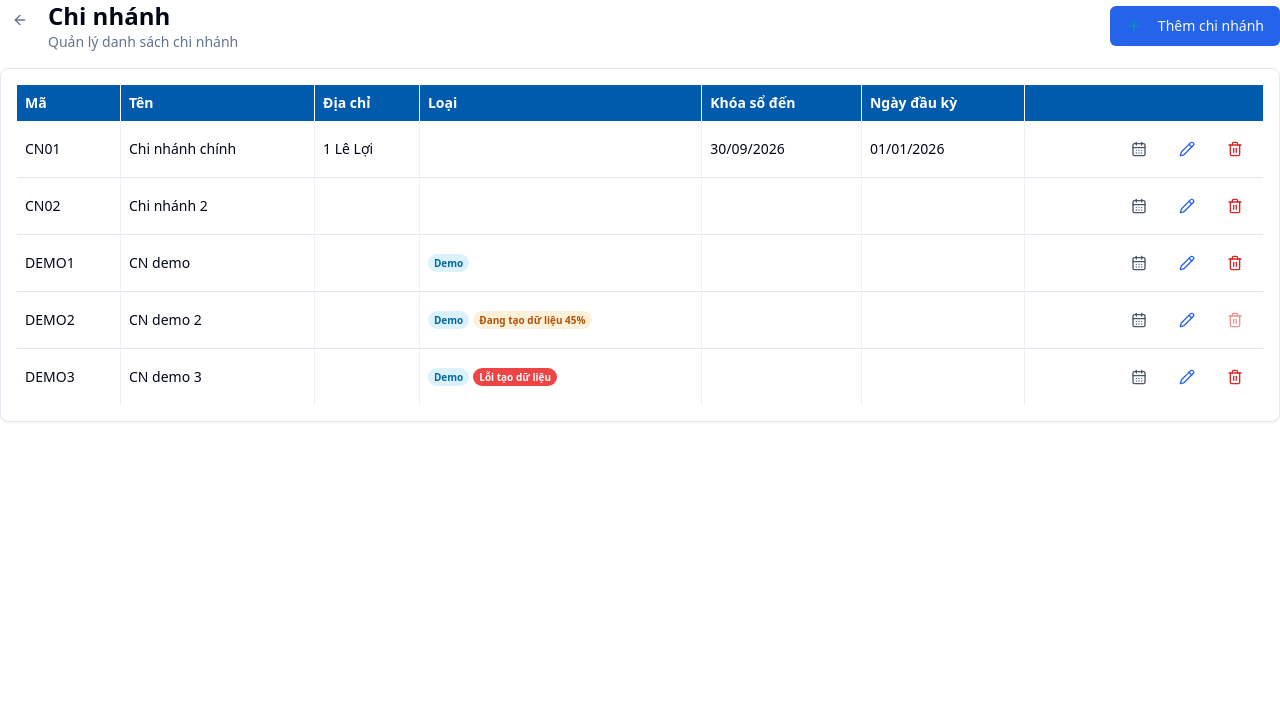
BranchesPage › demo rows use the demo delete action
Expected: the button "Xóa chi nhánh" is not shown
Click the button named "Xóa chi nhánh demo" in the row of "DEMO1" at (1235, 263), box [1215,243,1255,283]
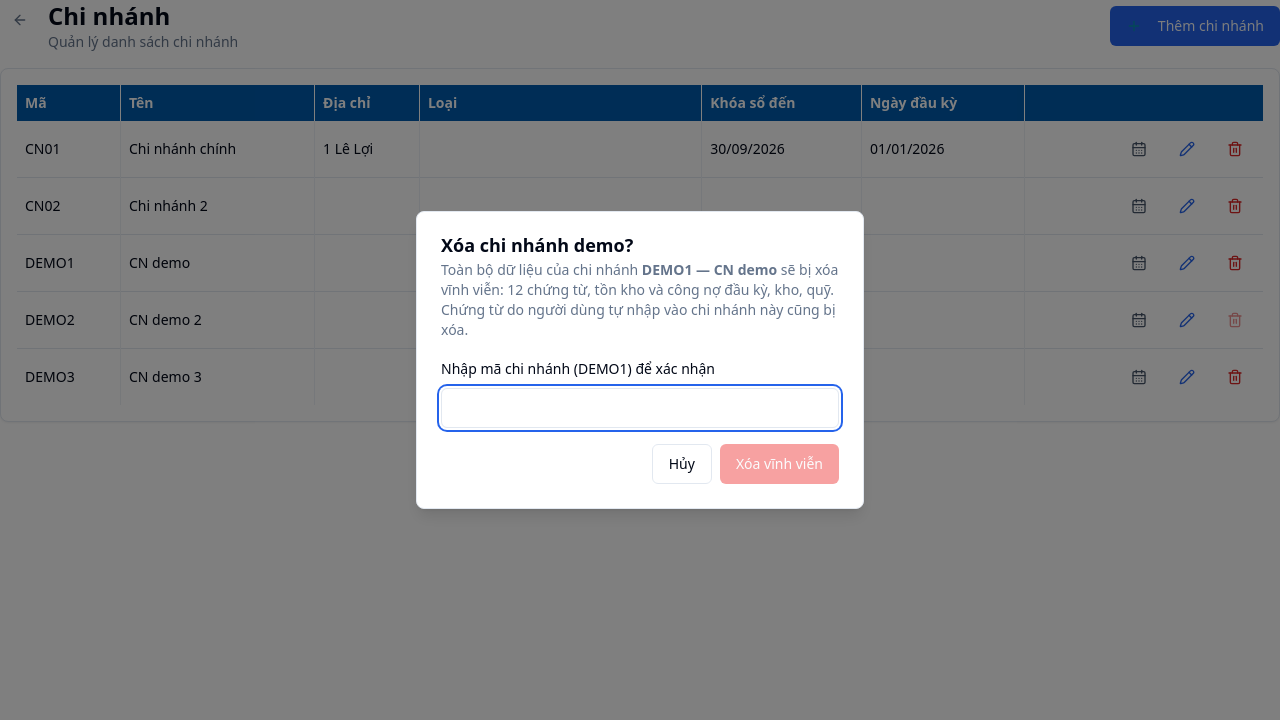
Now the dialog "Xóa chi nhánh demo?" is shown, box [416,211,864,509]
